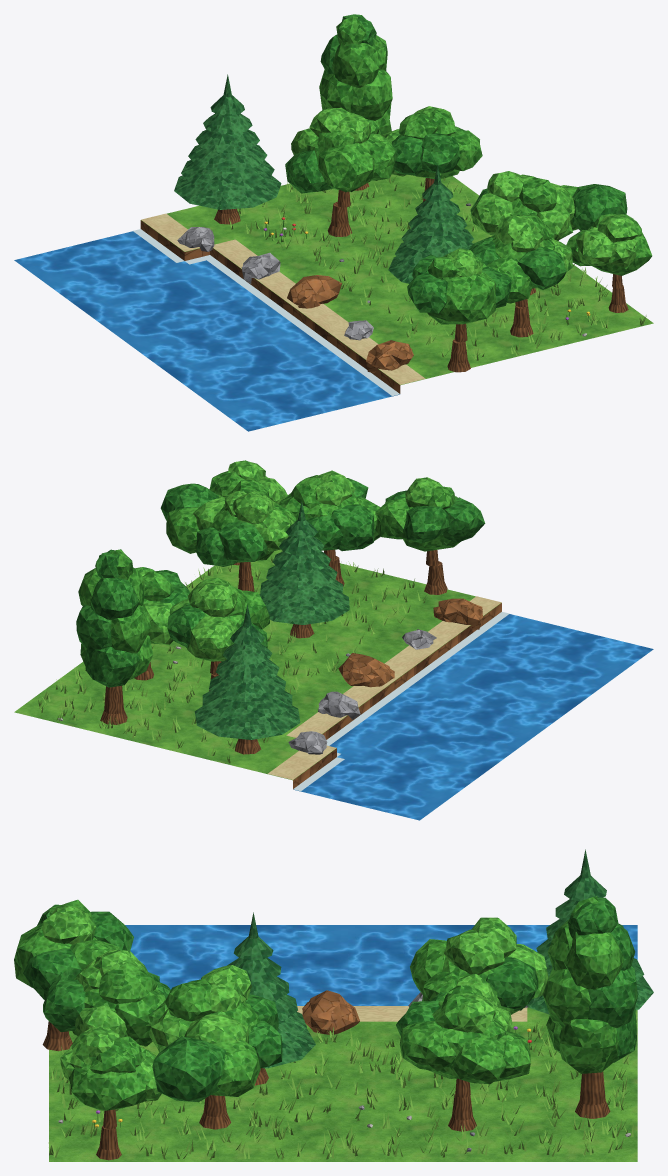
The model's file is chunk_0_0.glb.
The picture shows the model from 3 angles, top to bottom: view 1: azimuth 30°, elevation 25°; view 2: azimuth 150°, elevation 25°; view 3: azimuth 270°, elevation 25°; orthographic projection. The views are drawn at different scales.
Visible parts, largest first — view 1: chunk_0_0; view 2: chunk_0_0; view 3: chunk_0_0.
Part boxes in pixels (left/top/right/bottom): chunk_0_0: left=14, top=14, right=653, bottom=431; chunk_0_0: left=14, top=460, right=653, bottom=820; chunk_0_0: left=14, top=849, right=653, bottom=1161.
Bounding box in the file's own units: 17.02 × 6.89 × 17.4.
Materials: 19 (13 with a texture image).
